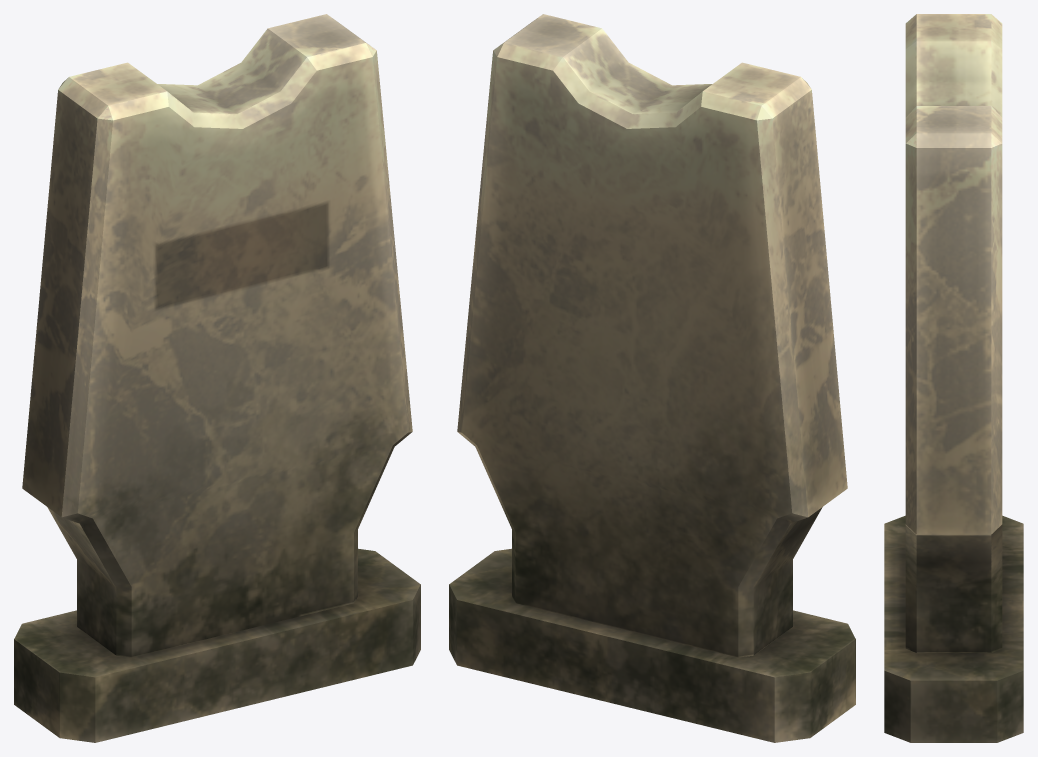
The model's file is SM_Tombstone_4.FBX.
3 renders of one model, left to right at view 1: azimuth 30°, elevation 25°; view 2: azimuth 150°, elevation 25°; view 3: azimuth 270°, elevation 25°, orthographic. The views are drawn at different scales.
Visible parts, largest first — view 1: Tombstone_4; view 2: Tombstone_4; view 3: Tombstone_4.
Part boxes in pixels (bbox=[...]): Tombstone_4: bbox=[14, 14, 420, 742]; Tombstone_4: bbox=[449, 14, 855, 742]; Tombstone_4: bbox=[884, 14, 1023, 742].
Size of the model in its own units: 18.49 by 6.5 by 30.21.
